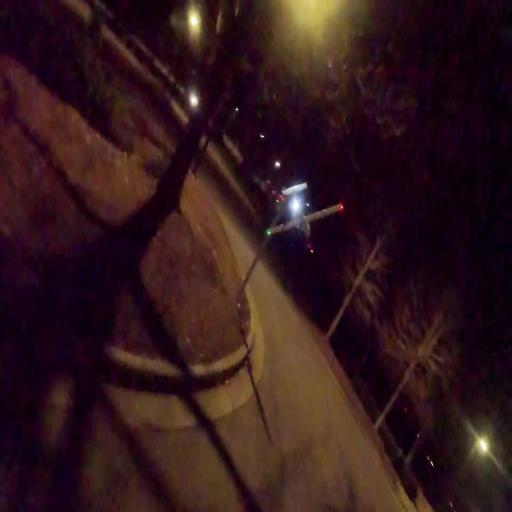uav: (263, 174, 347, 254)
